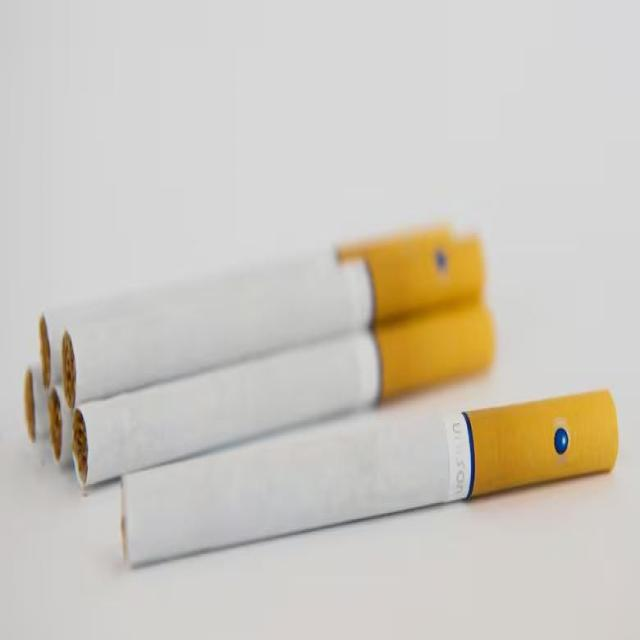cigarette: (121, 391, 619, 569), (73, 303, 495, 488), (61, 232, 487, 411), (39, 299, 98, 386), (49, 388, 75, 466), (24, 369, 48, 442)
